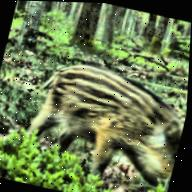boar: (18, 45, 190, 190)
